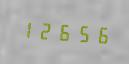five: (72, 20, 89, 45)
one: (18, 16, 35, 41)
six: (54, 19, 71, 44), (90, 21, 107, 46)
two: (36, 18, 53, 43)
